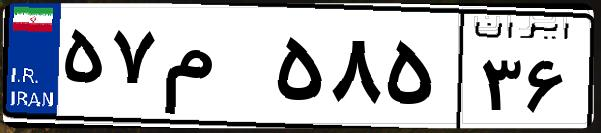3: (475, 38, 525, 113)
5: (270, 28, 330, 110), (385, 28, 445, 110), (57, 26, 110, 100)
6: (525, 38, 570, 115)
7: (110, 28, 158, 98)
8: (330, 28, 385, 110)
م: (158, 20, 270, 120)
